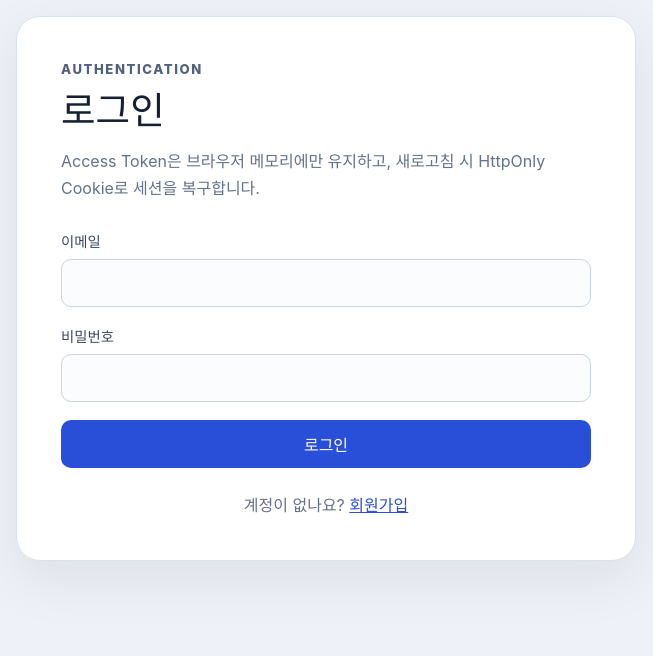
Test: authentication views › shows a safe login failure message
Step 1. Type "user@example.com" into the field named "email" → (326, 283), box 61,259 -> 591,307
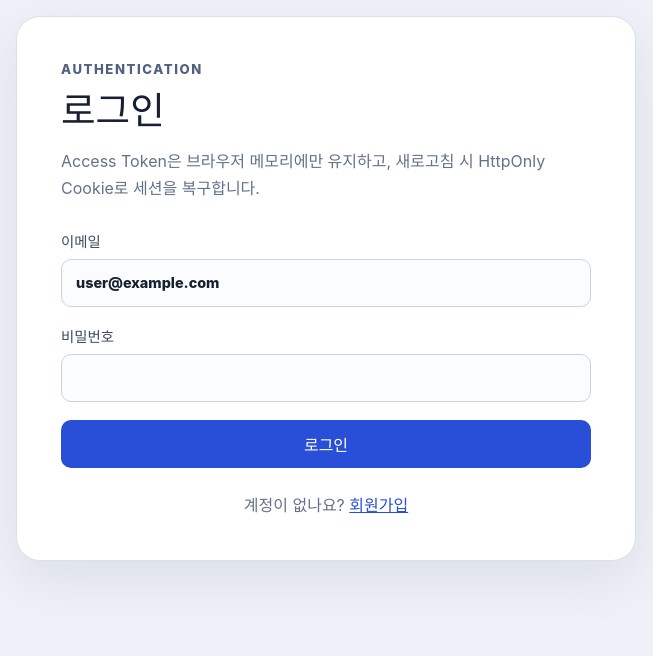
Step 2. Type "wrong-password" into the password field named "password" → (326, 378), box 61,354 -> 591,402
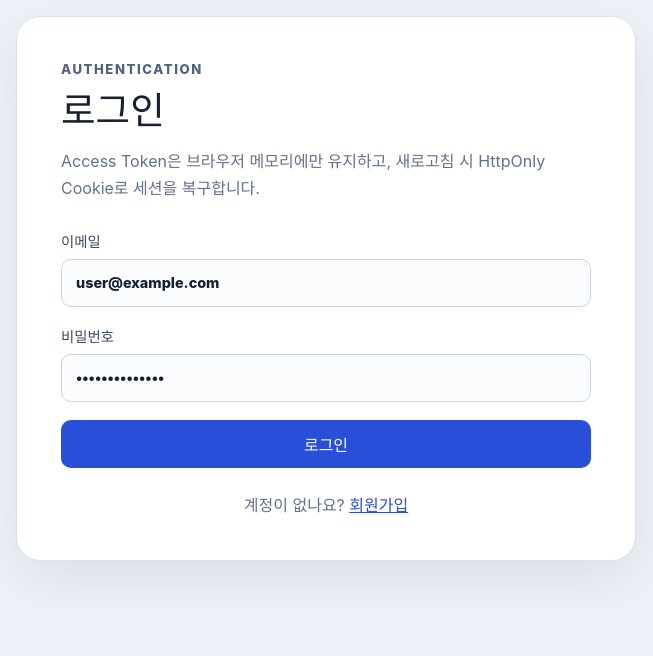
Step 3. Submit the form, box 61,230 -> 591,468
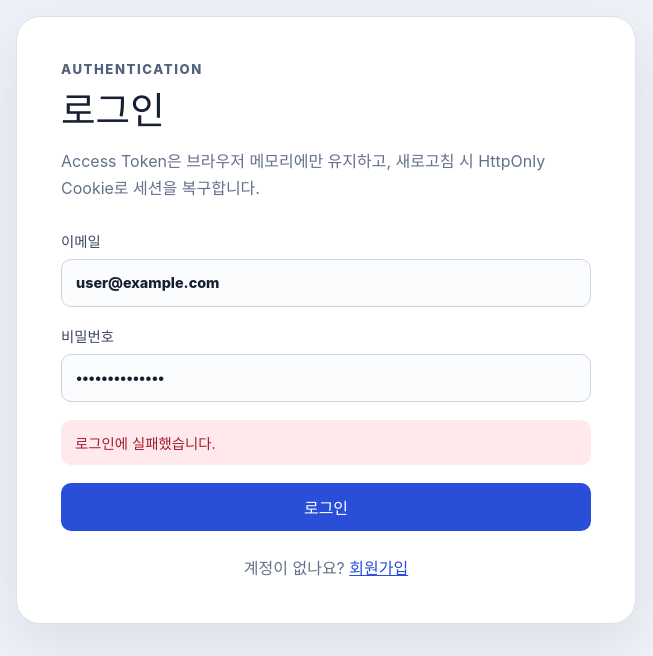
Check: the text "로그인에 실패했습니다" is shown, box 75,435 -> 216,452
